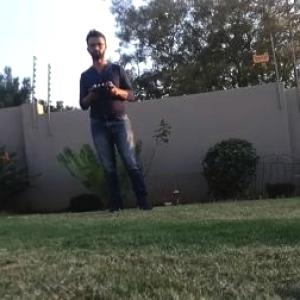follow: (75, 23, 161, 215)
